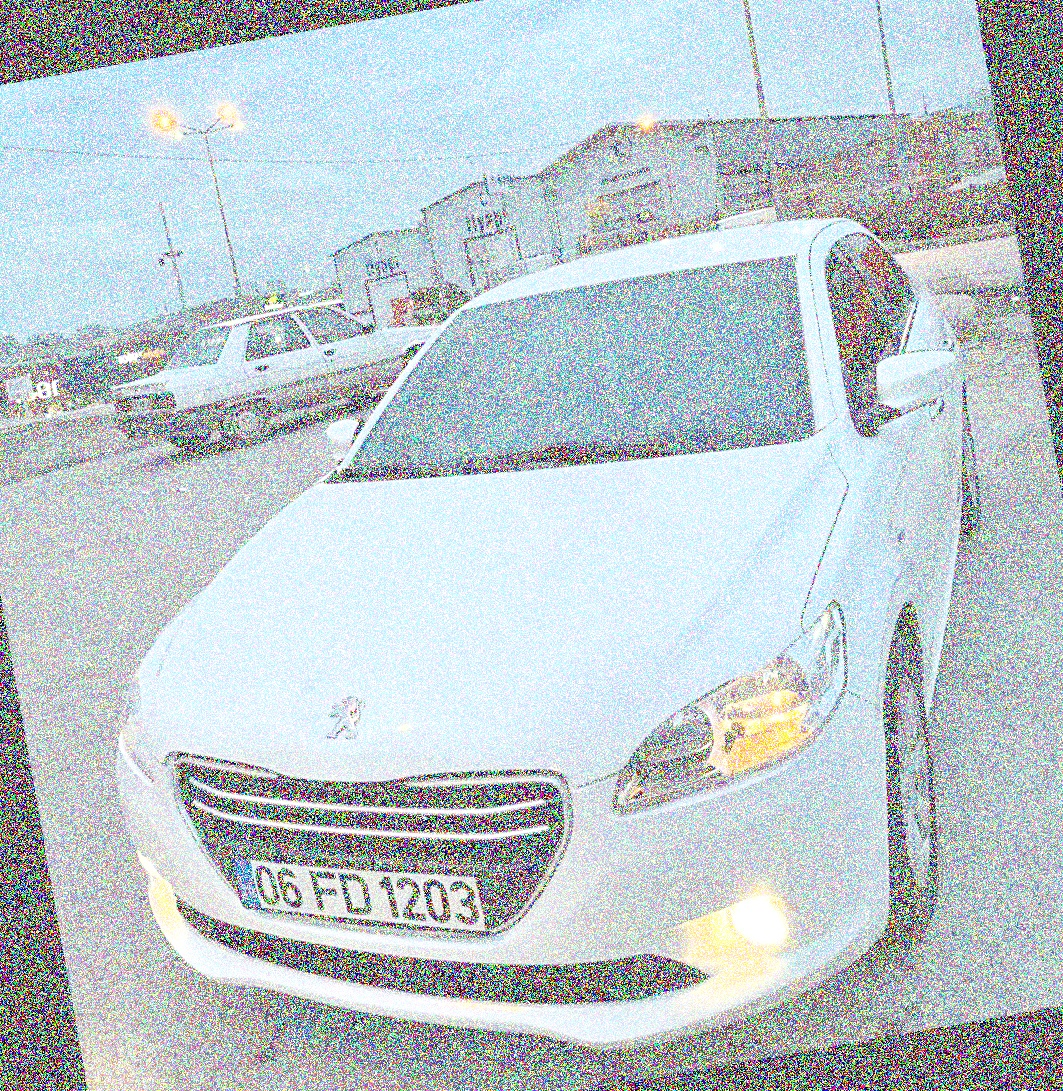plaka: (247, 851, 486, 937)
